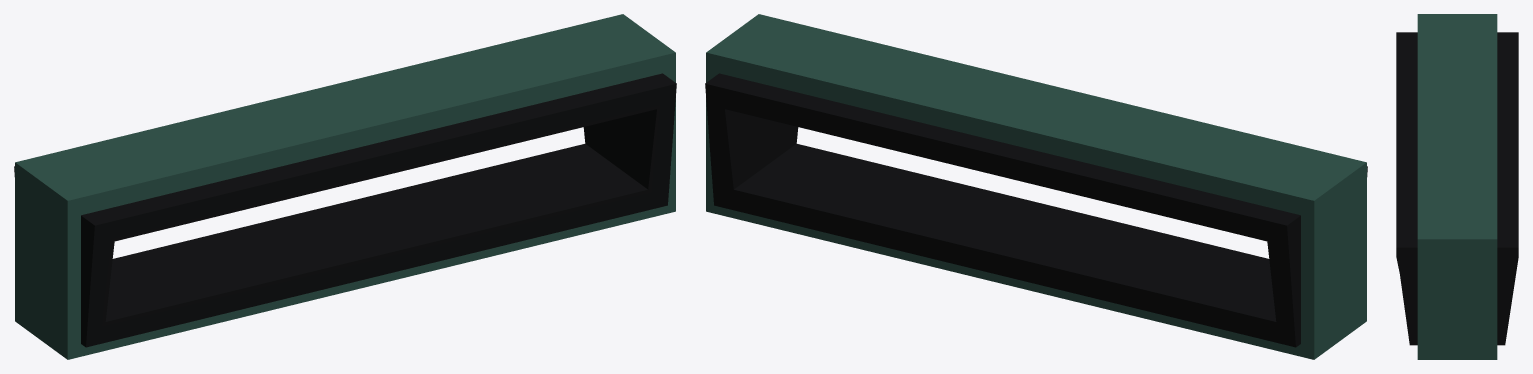
File: W2_WindowSquare_2m_Top.fbx
The picture shows the model from 3 angles, left to right: view 1: azimuth 30°, elevation 25°; view 2: azimuth 150°, elevation 25°; view 3: azimuth 270°, elevation 25°; orthographic projection. The views are drawn at different scales.
Visible parts, largest first — view 1: W2_WindowSquare_2m_Top.001; view 2: W2_WindowSquare_2m_Top.001; view 3: W2_WindowSquare_2m_Top.001.
Boxes of the visible parts, box(x1,y1,x2,y2) form: W2_WindowSquare_2m_Top.001: box(14, 14, 676, 359); W2_WindowSquare_2m_Top.001: box(705, 14, 1367, 359); W2_WindowSquare_2m_Top.001: box(1396, 14, 1518, 359).
Bounding box in the file's own units: 2 × 0.5 × 0.4603.
